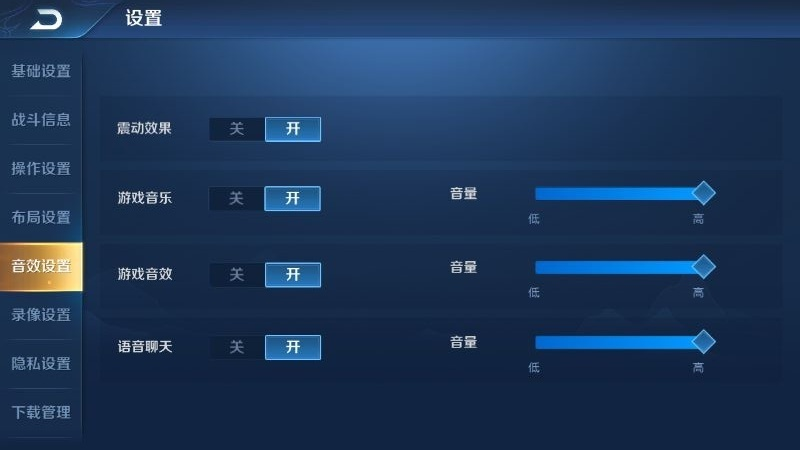return: (10, 2, 83, 34)
tag: (1, 194, 80, 235), (1, 292, 79, 332), (1, 340, 80, 379), (1, 96, 76, 132), (4, 50, 76, 86), (1, 150, 76, 182), (263, 115, 320, 140), (264, 333, 320, 358), (263, 186, 319, 209), (265, 261, 320, 284)
